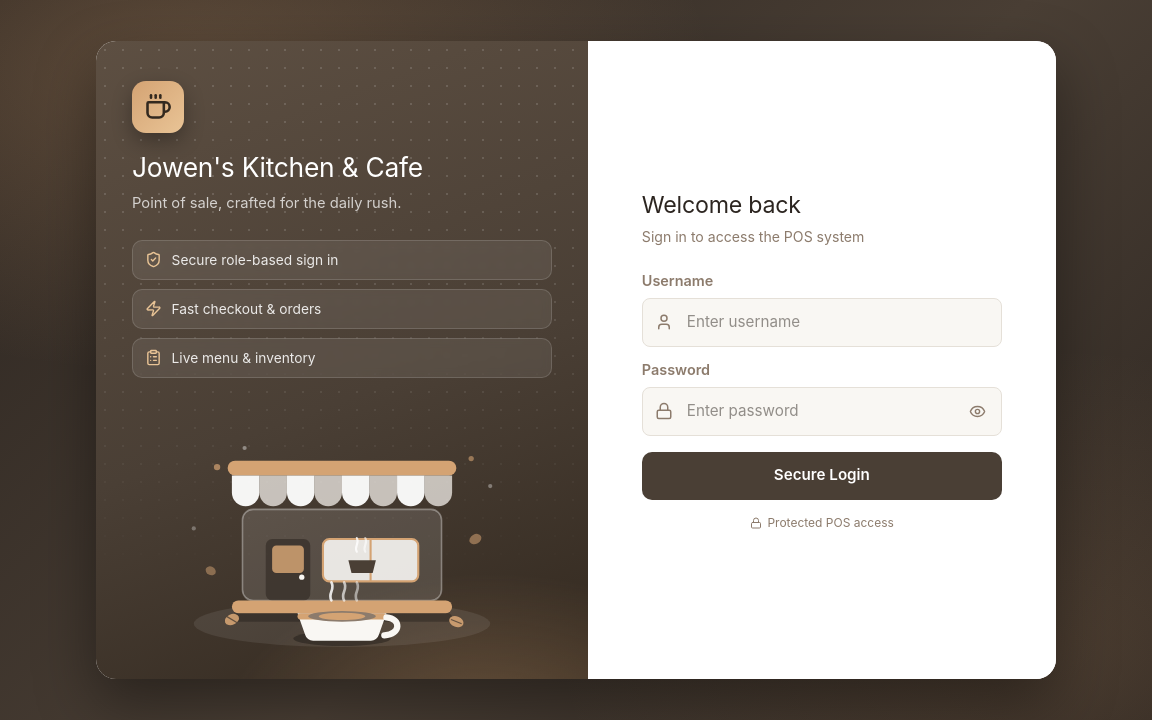
Test: Inventory Dashboard › renders the staff Settings label for non-admin roles
Type "cashier" into the field with test id "username-input" at point(822, 322), box [642,298,1002,347]
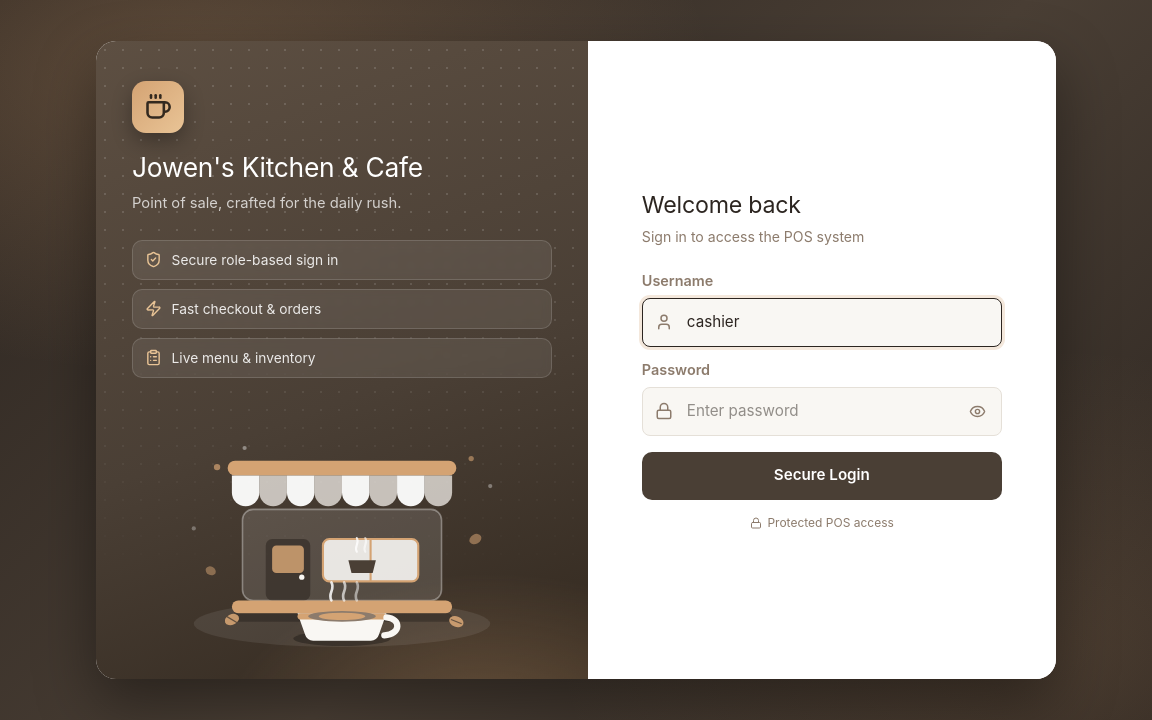
Type "cashier123" into the password field with test id "password-input" at point(822, 411), box [642,387,1002,436]
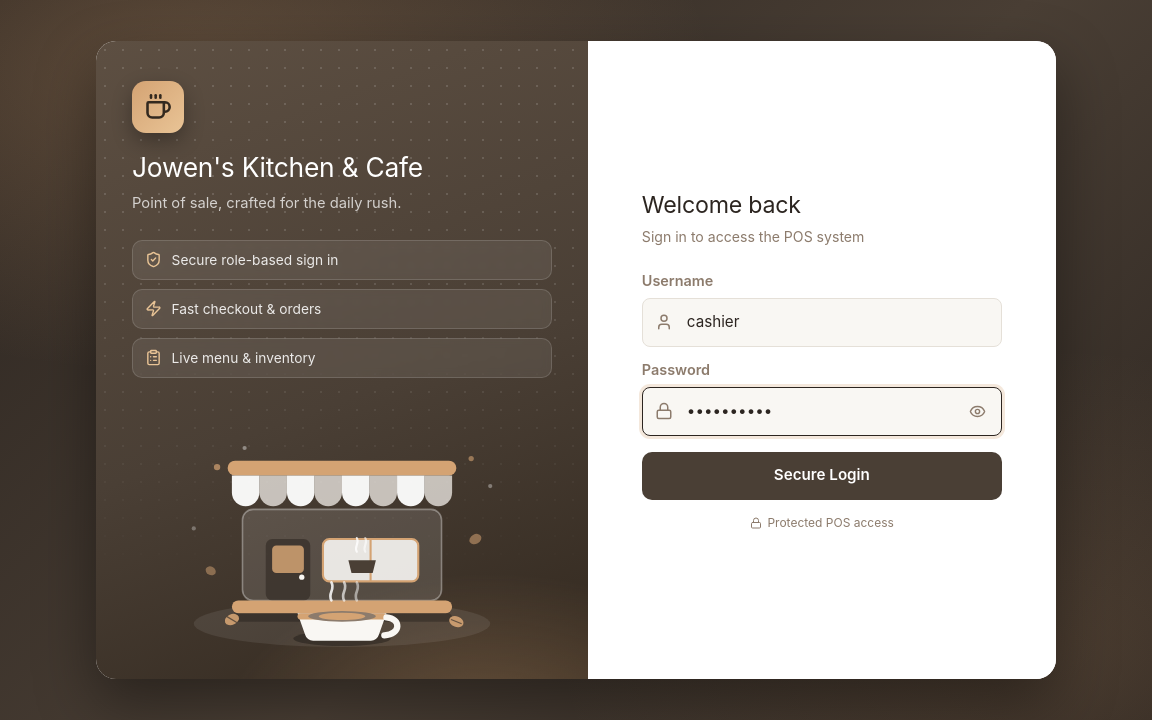
Click the button with test id "login-button" at point(822, 476), box [642,452,1002,500]
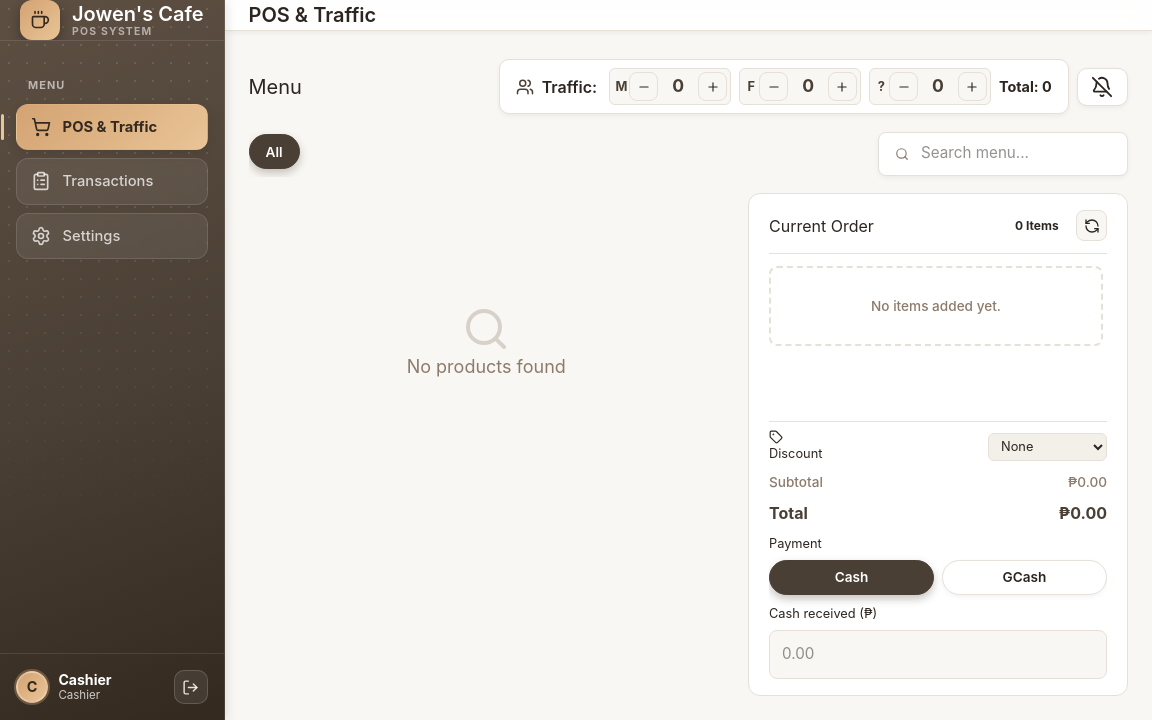
Check: the text "Settings" is shown, box [63,225,120,247]
